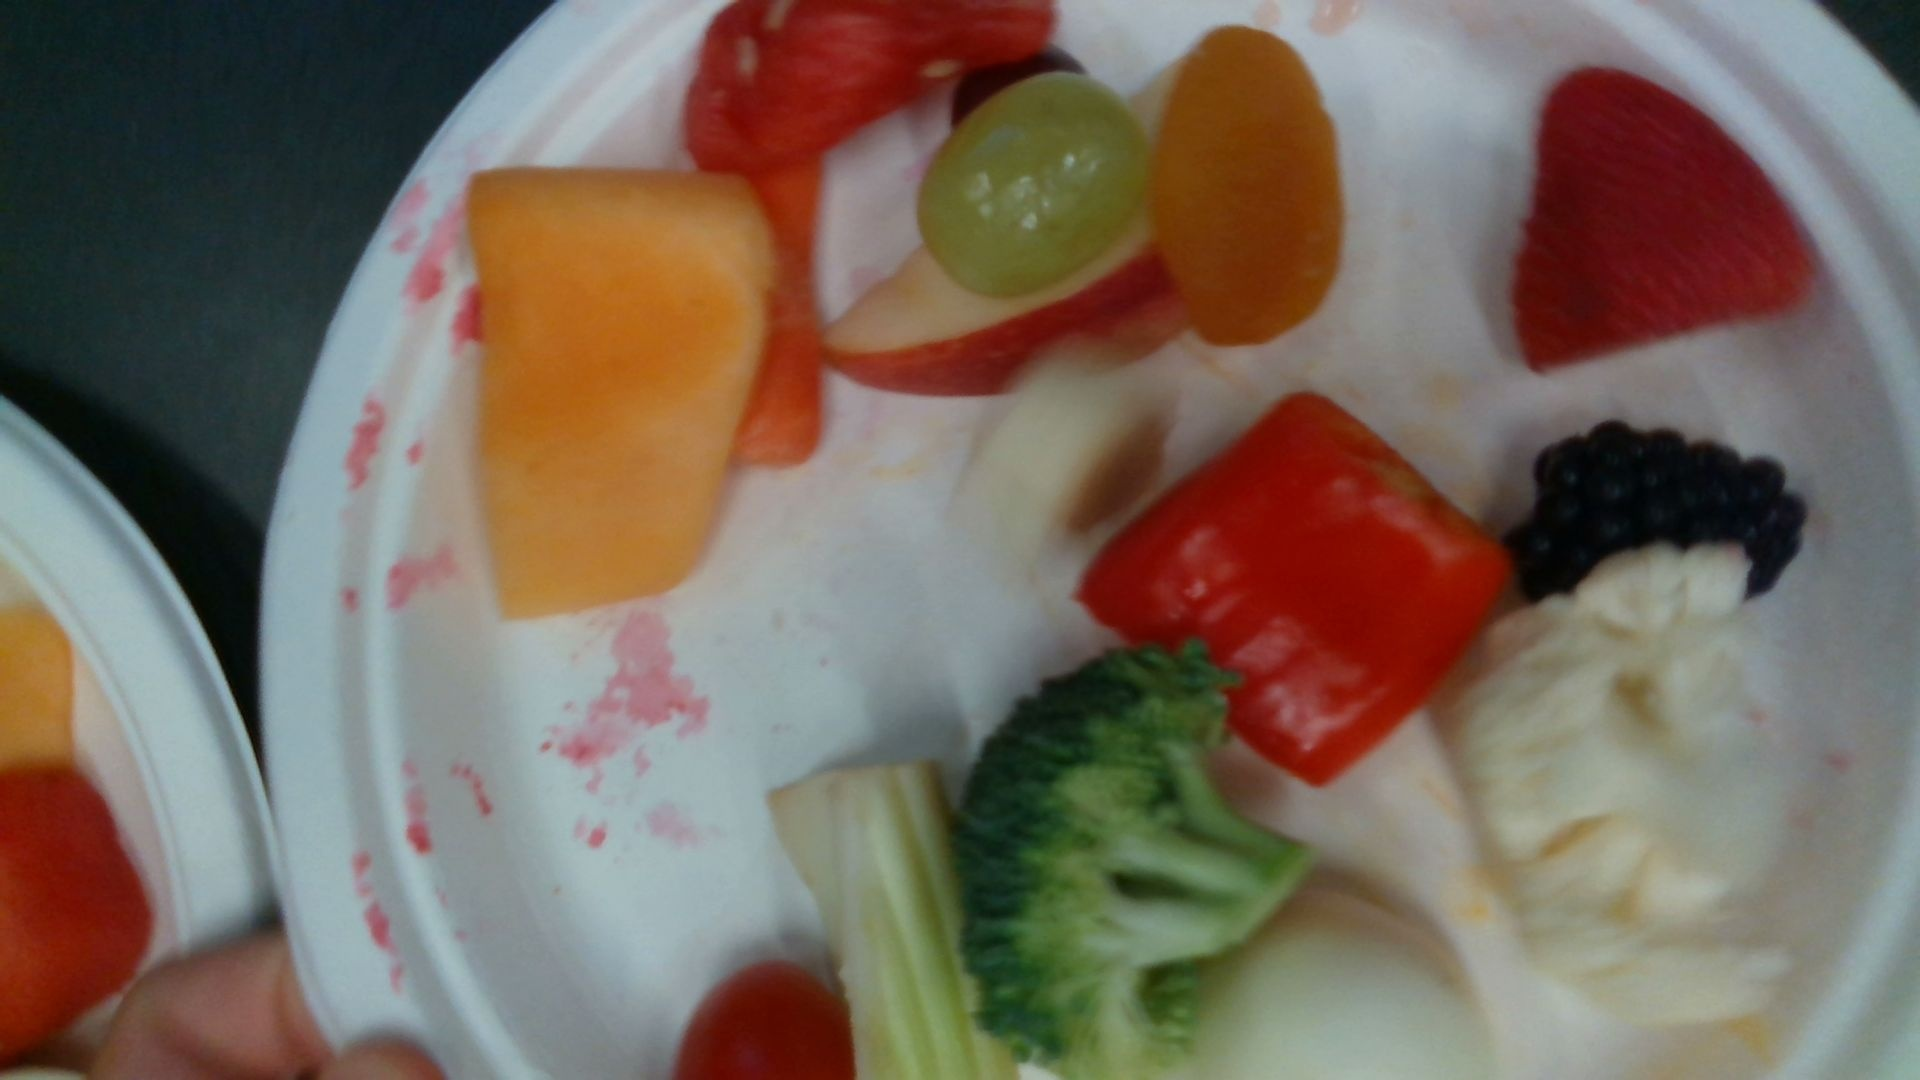apple: (822, 231, 1153, 393)
apricot: (1153, 28, 1342, 345), (675, 963, 855, 1080)
bell_pepper: (1080, 393, 1509, 786)
blackberry: (1505, 421, 1809, 611)
broccoli: (949, 650, 1309, 1080)
cantalope: (465, 171, 771, 616)
cauliflower: (1464, 545, 1789, 1031)
celery: (767, 761, 1010, 1080)
egg: (1193, 891, 1481, 1080)
grape_green: (919, 71, 1145, 295)
melon: (684, 75, 822, 462), (700, 1, 1058, 145), (1, 765, 154, 1059)
strawberry: (1513, 65, 1815, 361)
